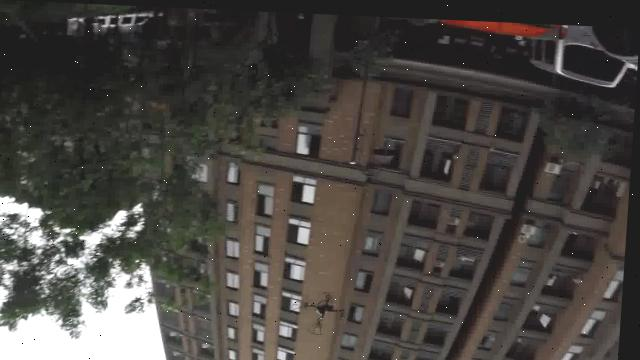drone: (292, 286, 352, 337)
